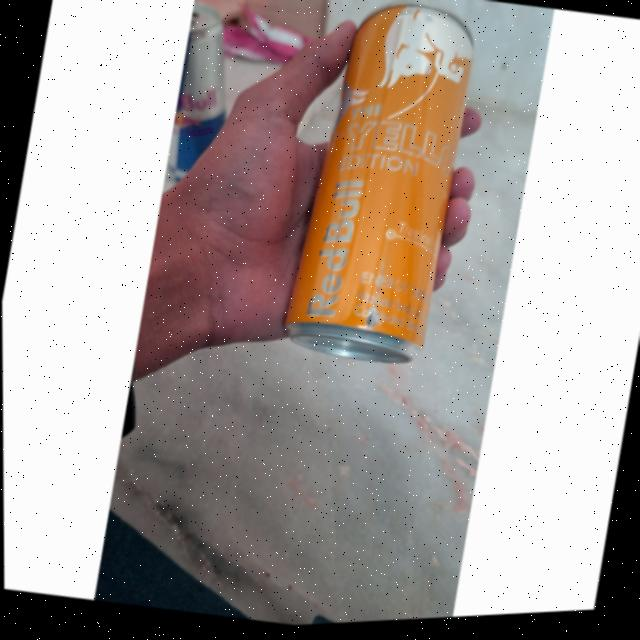Redbull Yellow Edition: (278, 0, 483, 383)
